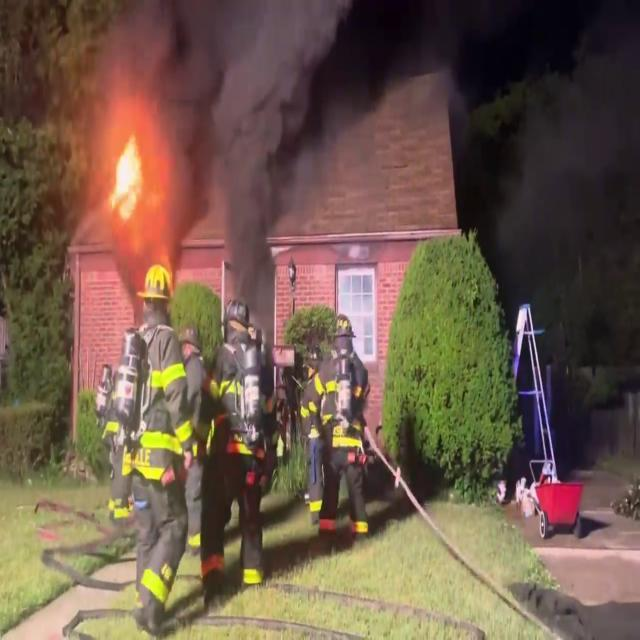Fire: (105, 115, 148, 223), (142, 256, 175, 298)
Smoke: (156, 0, 367, 251)
